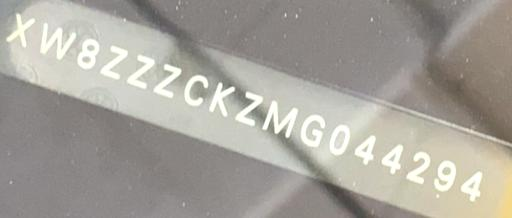letter: (261, 97, 301, 139), (38, 21, 76, 60), (233, 88, 265, 126), (3, 10, 35, 48), (152, 61, 184, 97), (126, 53, 156, 90), (98, 45, 128, 80), (208, 81, 236, 117), (183, 71, 211, 107), (404, 148, 432, 183), (299, 113, 325, 149), (378, 141, 404, 176), (458, 170, 484, 203), (352, 133, 378, 164), (432, 158, 456, 191), (76, 36, 100, 69), (328, 122, 350, 156)
